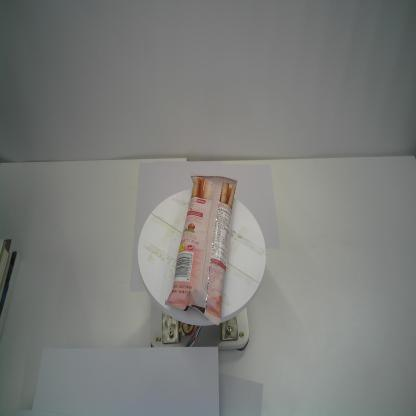Dessert: (163, 173, 239, 330)
